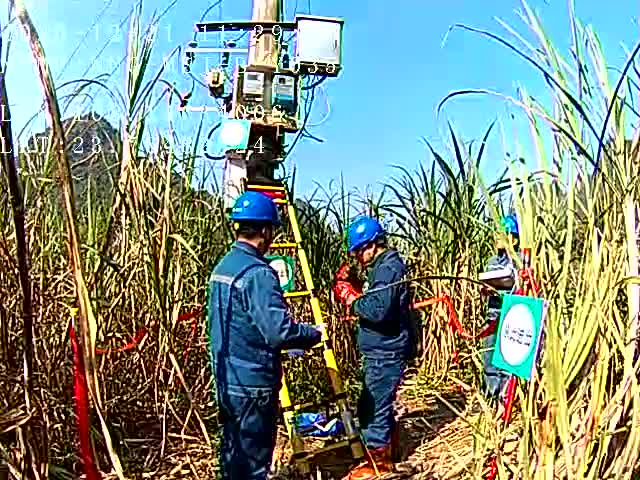downsuit: (219, 370, 280, 480), (361, 360, 404, 445)
halt: (229, 191, 281, 246), (347, 217, 388, 261), (493, 218, 521, 253)
inear: (260, 223, 273, 244)
intosign: (492, 290, 552, 382)
longglove: (333, 277, 364, 305)
person: (205, 190, 328, 480), (331, 215, 421, 452), (473, 214, 532, 412)
upsuit: (207, 250, 321, 365), (353, 249, 418, 357)
worksign: (262, 250, 299, 292)
